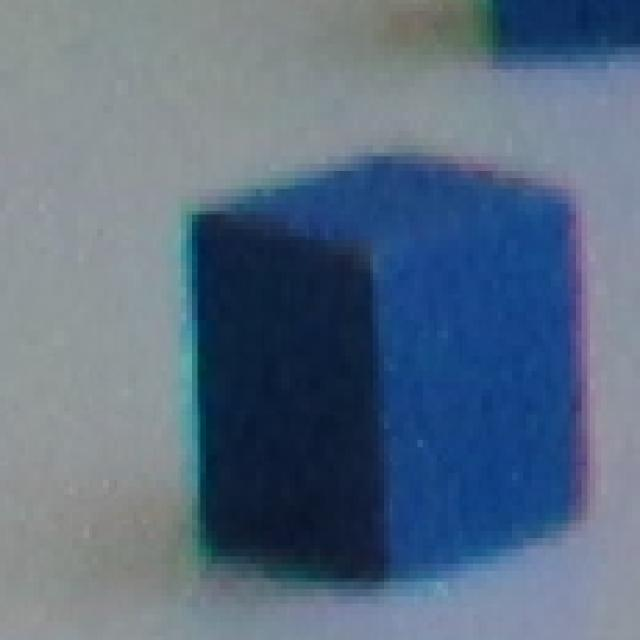bluecube: (187, 142, 591, 600)
